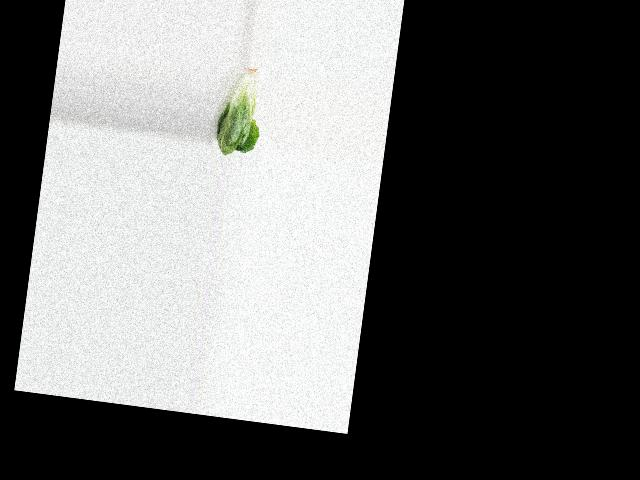lettuce: (211, 60, 269, 159)
